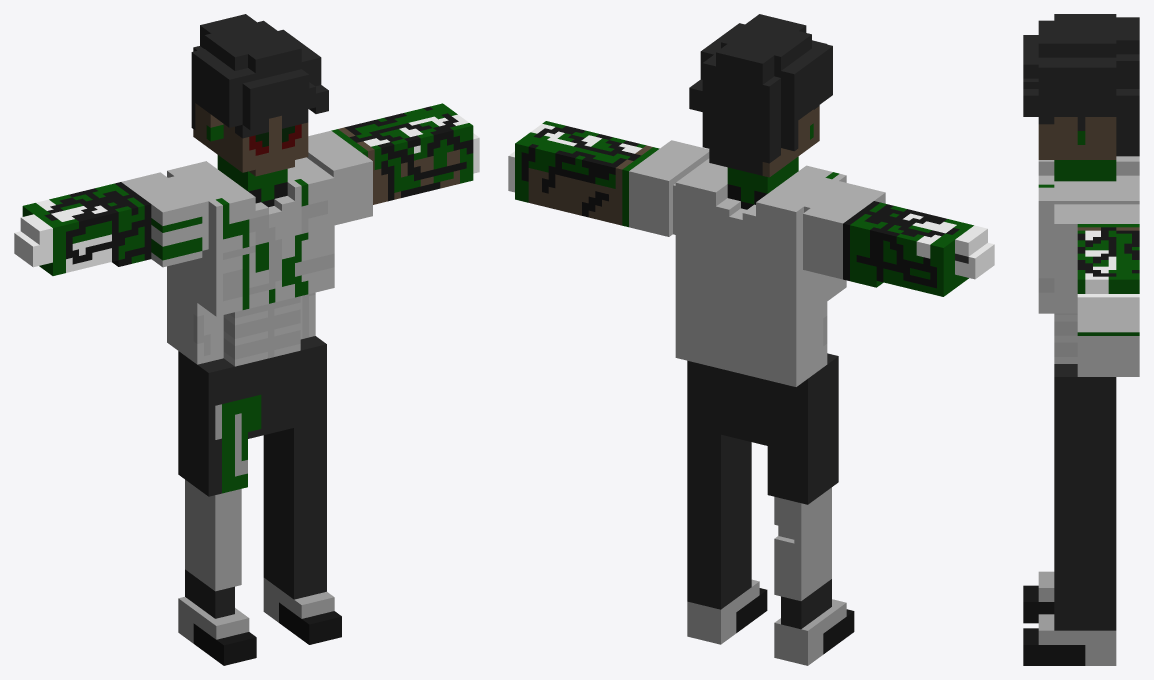
The model's file is monster 2.obj.
3 views of the same model, side by side, from view 1: azimuth 30°, elevation 25°; view 2: azimuth 150°, elevation 25°; view 3: azimuth 270°, elevation 25° (orthographic). The views are drawn at different scales.
Size of the model in its own units: 6.8 by 8.6 by 1.5.
1 material, 1 textured.
